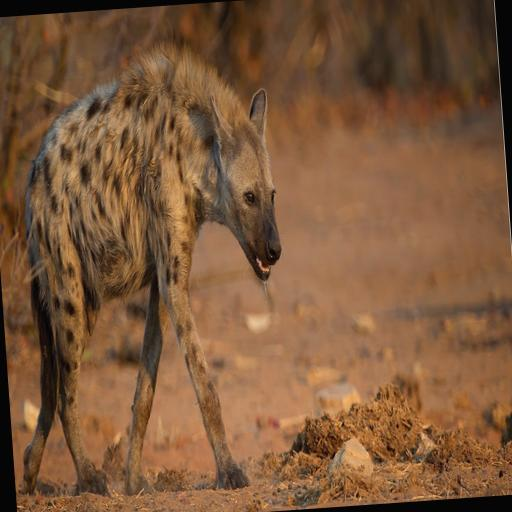hyenas: (0, 38, 347, 512)
